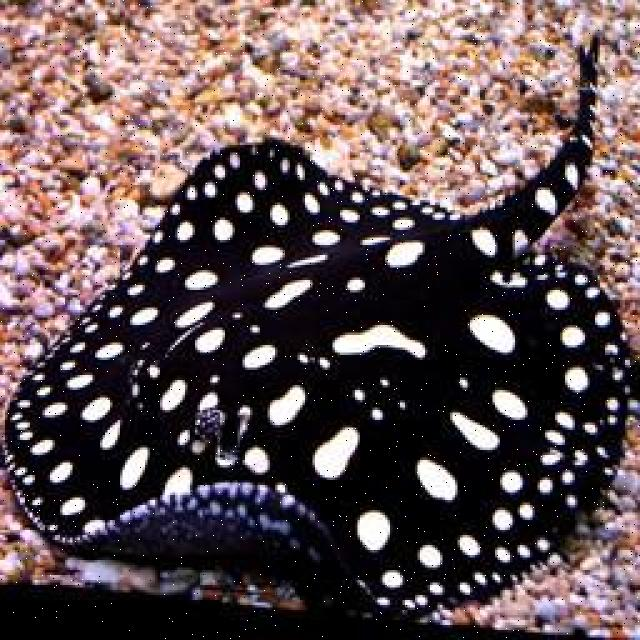fish: (3, 31, 638, 622)
